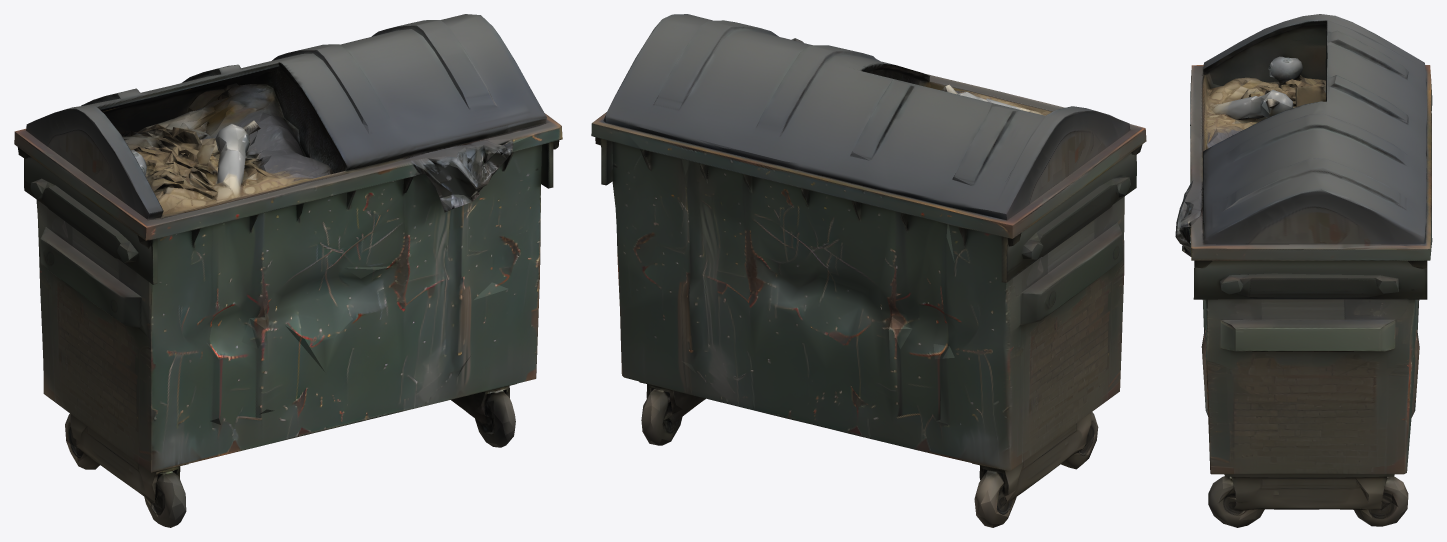
The model's file is dumpster_full.glb.
3 views of the same model, side by side, from view 1: azimuth 30°, elevation 25°; view 2: azimuth 150°, elevation 25°; view 3: azimuth 270°, elevation 25° (orthographic). The views are drawn at different scales.
Visible parts, largest first — view 1: Object_3, Object_2; view 2: Object_3, Object_2; view 3: Object_3, Object_2.
Part boxes in pixels (x1,y1,x2,y2): Object_3: (14, 14, 562, 526); Object_2: (25, 34, 562, 527); Object_3: (591, 14, 1146, 527); Object_2: (597, 21, 1142, 527); Object_3: (1175, 14, 1432, 527); Object_2: (1176, 26, 1426, 527).
Bounding box in the file's own units: 1.83 × 1.63 × 1.07.
Materials: 1 (1 with a texture image).
